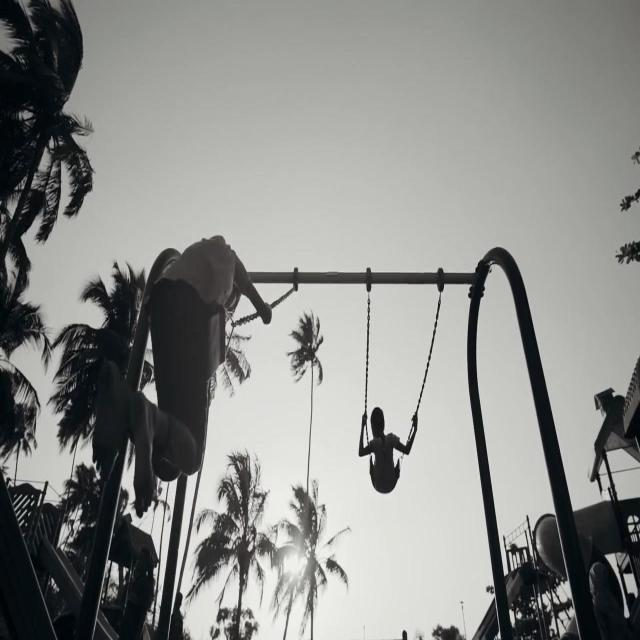no-helmet: (588, 560, 607, 595), (369, 406, 385, 437), (139, 544, 153, 574), (174, 588, 184, 610)
